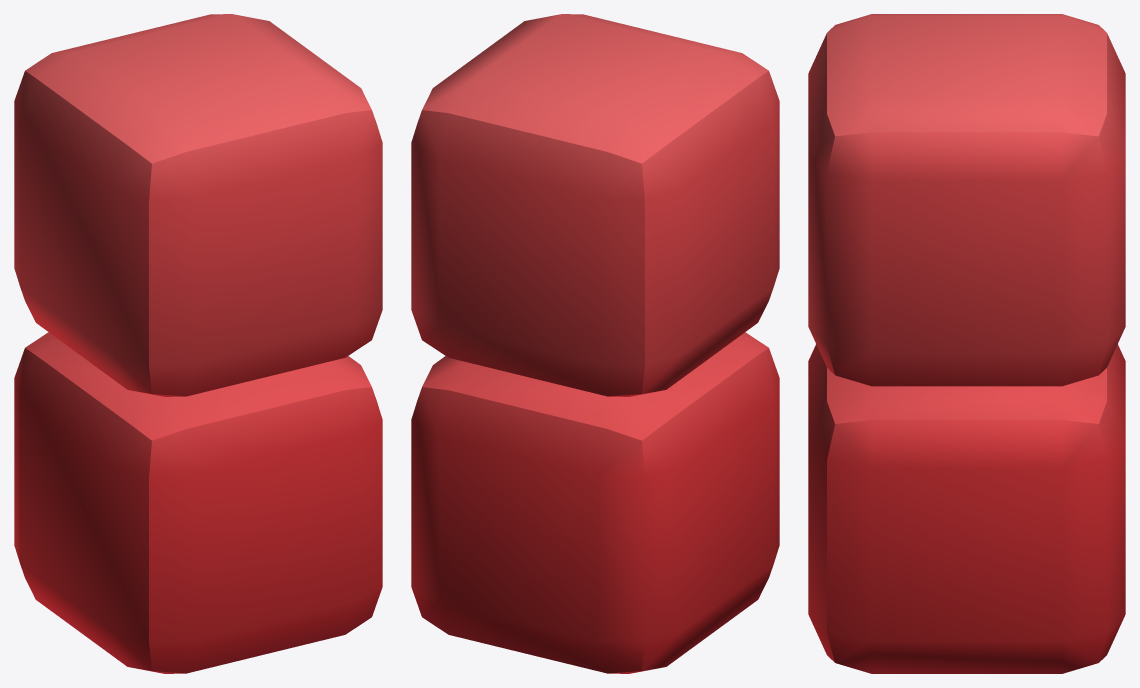
Rendered from barrier_1x1x2_red.glb.
3 renders of one model, left to right at view 1: azimuth 30°, elevation 25°; view 2: azimuth 150°, elevation 25°; view 3: azimuth 270°, elevation 25°, orthographic. The views are drawn at different scales.
Parts seen in each view (by area): view 1: barrier_1x1x2_red; view 2: barrier_1x1x2_red; view 3: barrier_1x1x2_red.
Boxes of the visible parts, left/top/right/bottom form: barrier_1x1x2_red: left=14, top=14, right=382, bottom=673; barrier_1x1x2_red: left=411, top=14, right=779, bottom=673; barrier_1x1x2_red: left=808, top=14, right=1125, bottom=673.
Bounding box in the file's own units: 1 × 2 × 1.
Materials: 1 (1 with a texture image).
